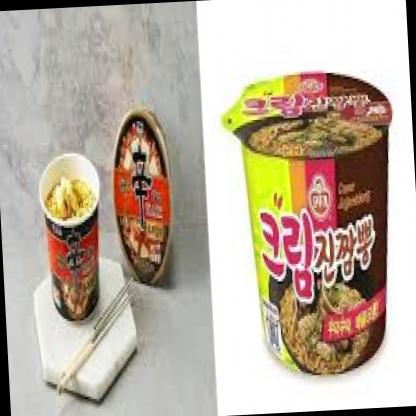Ramen: (228, 67, 406, 381), (40, 156, 110, 319)
